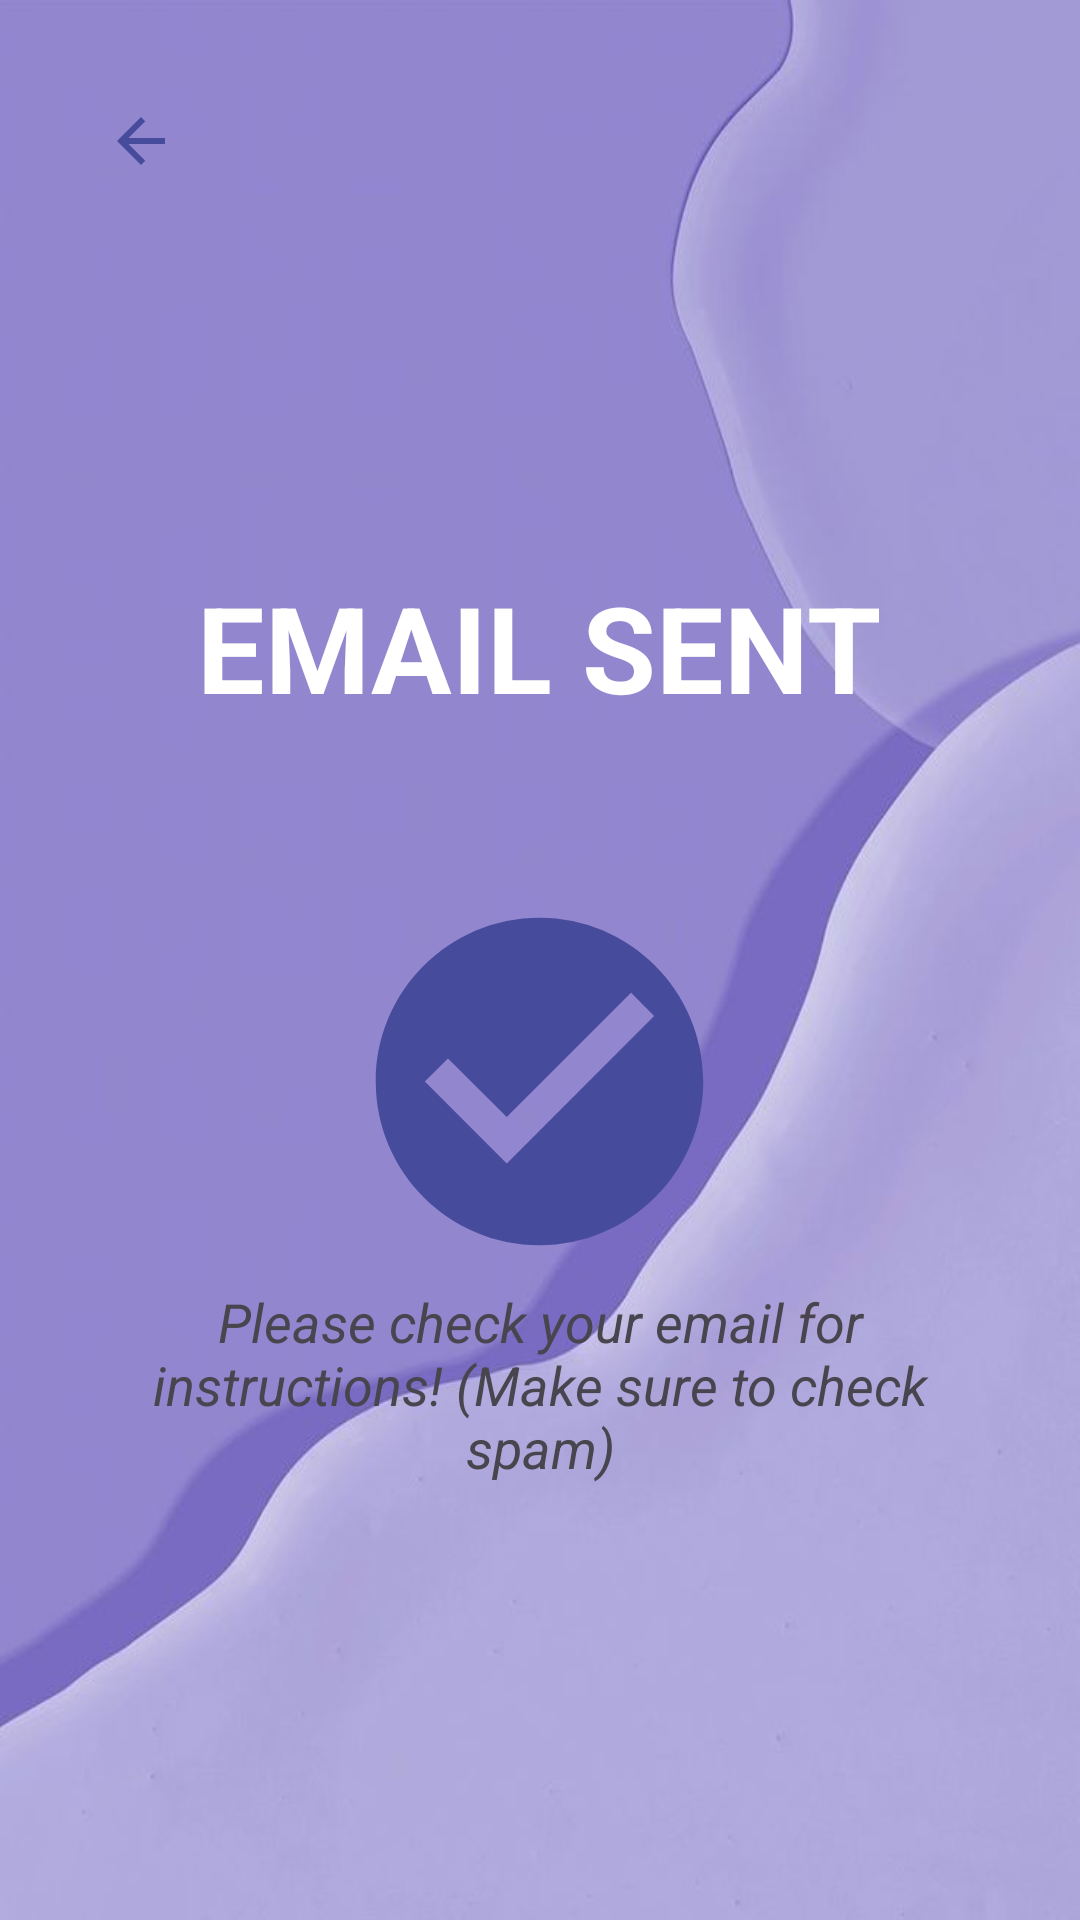

Icon bounding boxes for this 1080x1920 phone screenshot, format (x1, y1, x2, y2):
arrow: (117, 117, 165, 165)
